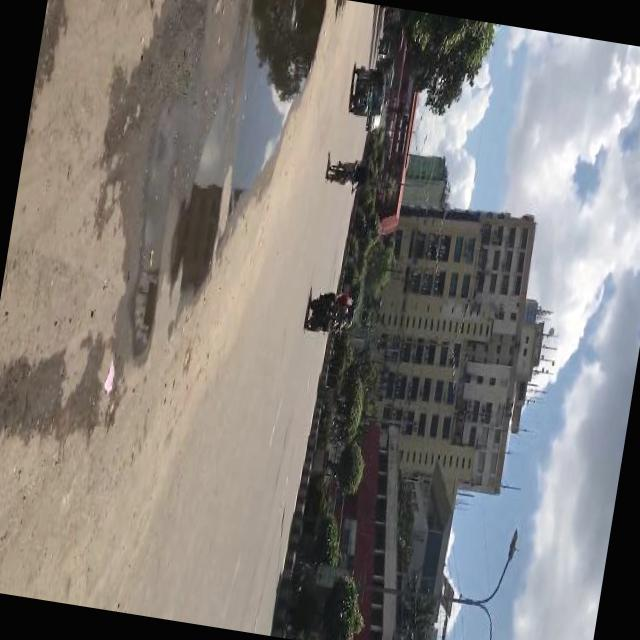bus: (373, 59, 396, 90)
motorcycle: (303, 290, 358, 341), (346, 64, 389, 121), (376, 41, 390, 59)
